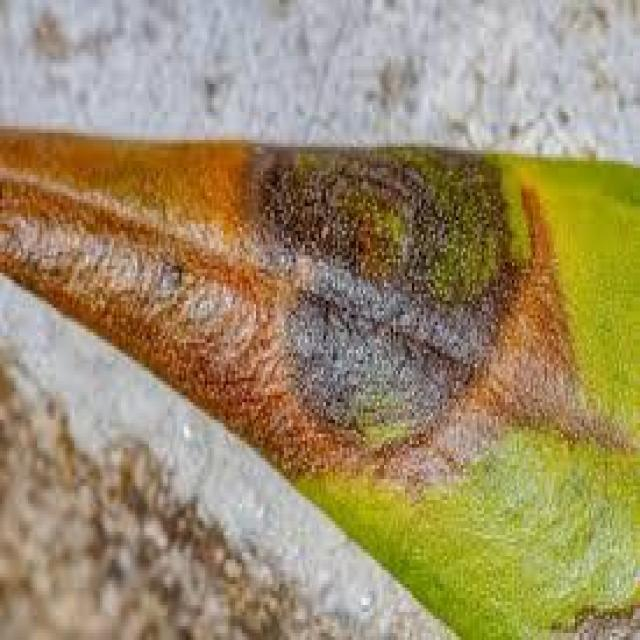Peacock Eye: (0, 129, 638, 637)
